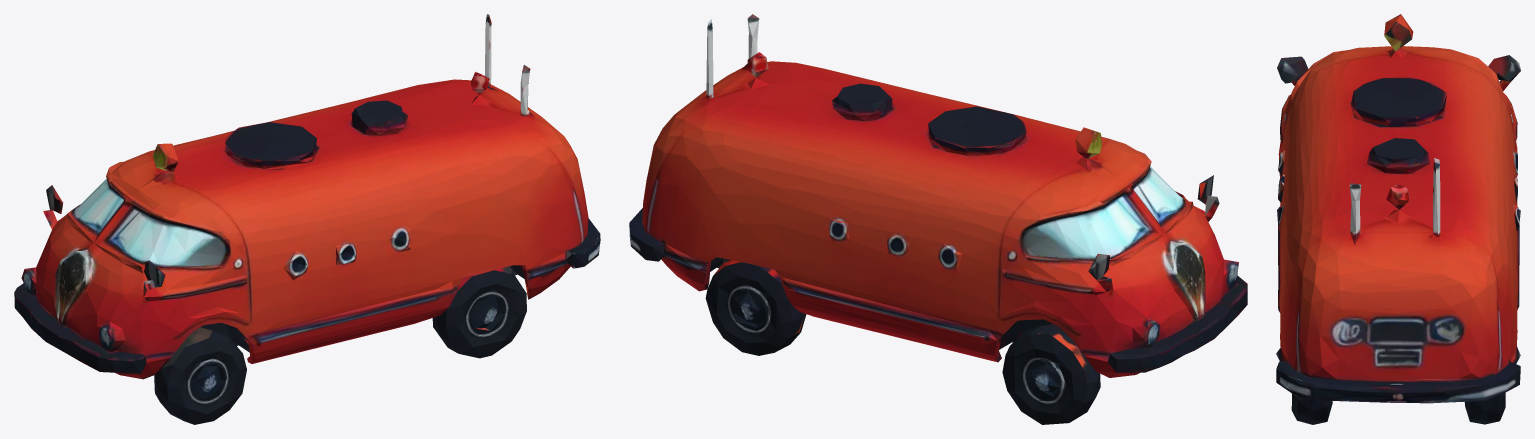
Rendered from van.glb.
3 views of the same model, side by side, from view 1: azimuth 30°, elevation 25°; view 2: azimuth 150°, elevation 25°; view 3: azimuth 270°, elevation 25° (orthographic). The views are drawn at different scales.
Visible parts, largest first — view 1: figure; view 2: figure; view 3: figure.
Part boxes in pixels (x1,y1,x2,y2): figure: [14, 14, 600, 424]; figure: [629, 14, 1247, 424]; figure: [1276, 14, 1520, 424].
Bounding box in the file's own units: 1.94 × 1 × 0.7475.
Materials: 1 (1 with a texture image).
